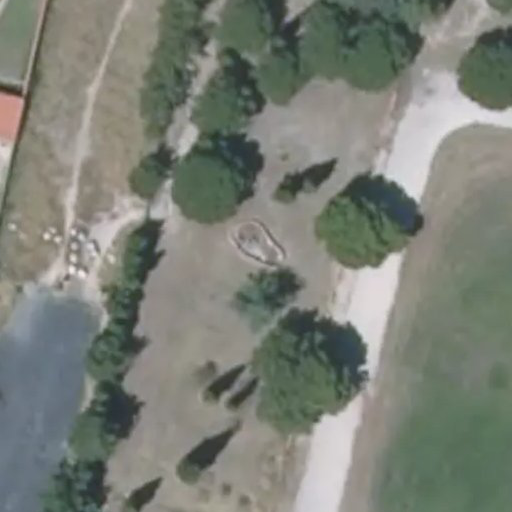pool: (227, 232, 284, 255)
